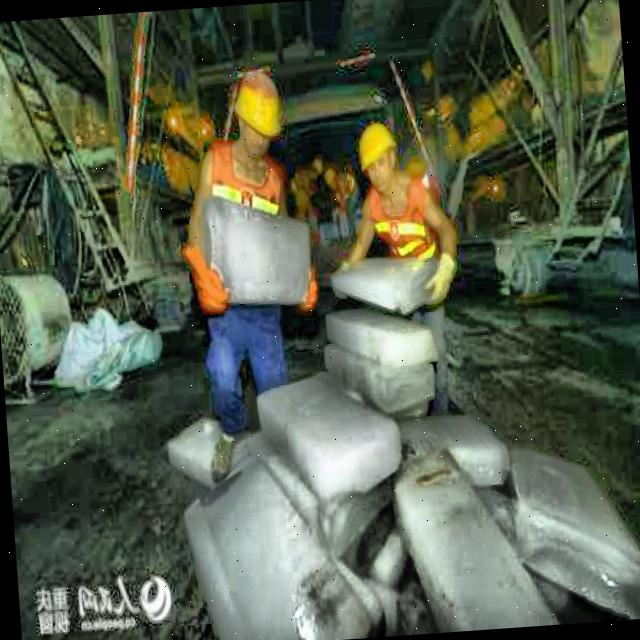helmet: (226, 64, 286, 160), (355, 117, 401, 199)
